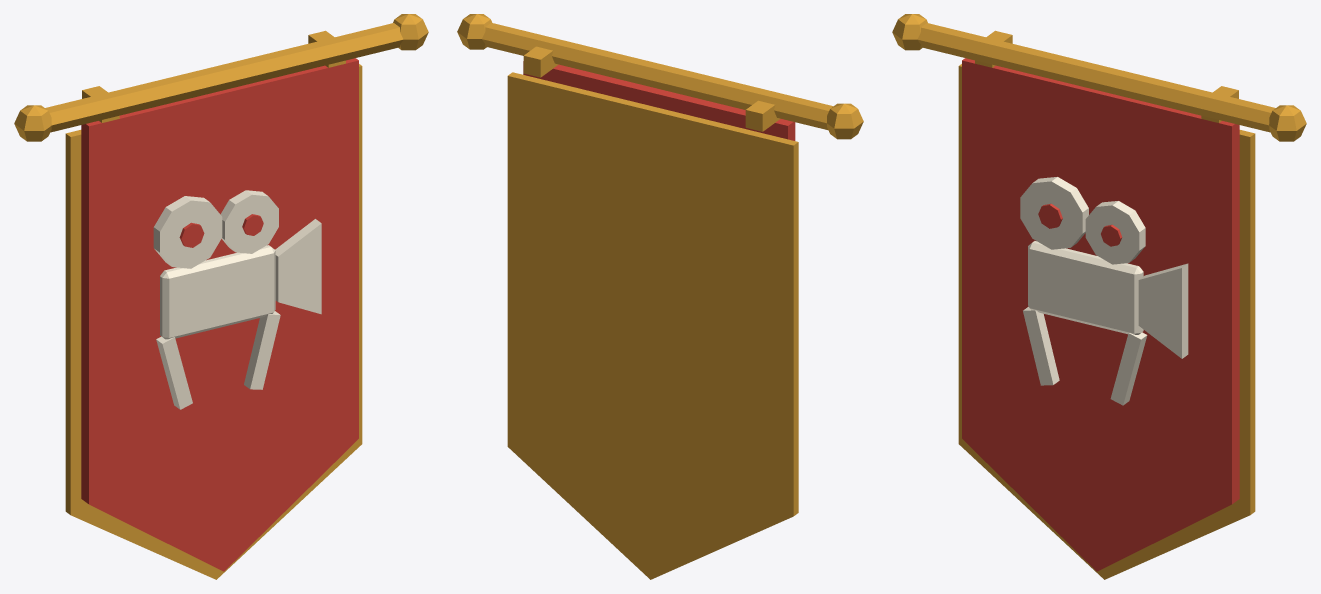
File: wall_banner.glb
The picture shows the model from 3 angles, left to right: view 1: azimuth 30°, elevation 25°; view 2: azimuth 150°, elevation 25°; view 3: azimuth 330°, elevation 25°; orthographic projection.
Parts seen in each view (by area): view 1: wall_banner; view 2: wall_banner; view 3: wall_banner.
Part boxes in pixels (x1=…): wall_banner: x1=14, y1=14, x2=428, y2=579; wall_banner: x1=457, y1=14, x2=863, y2=579; wall_banner: x1=892, y1=14, x2=1306, y2=579.
Bounding box in the file's own units: 0.9293 × 1.15 × 0.1125.
